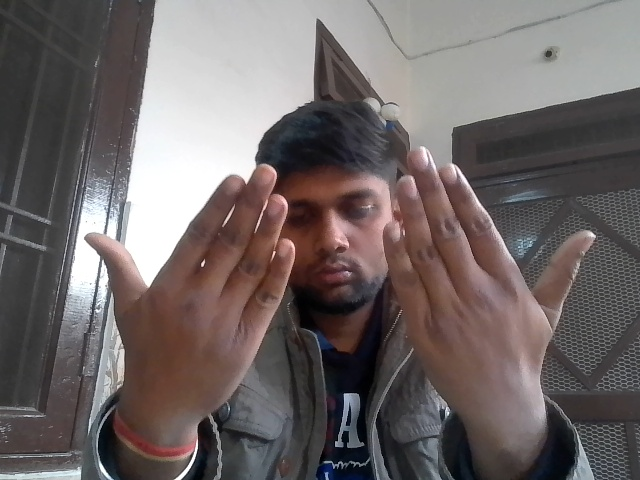ThankYou: (73, 142, 624, 439)
